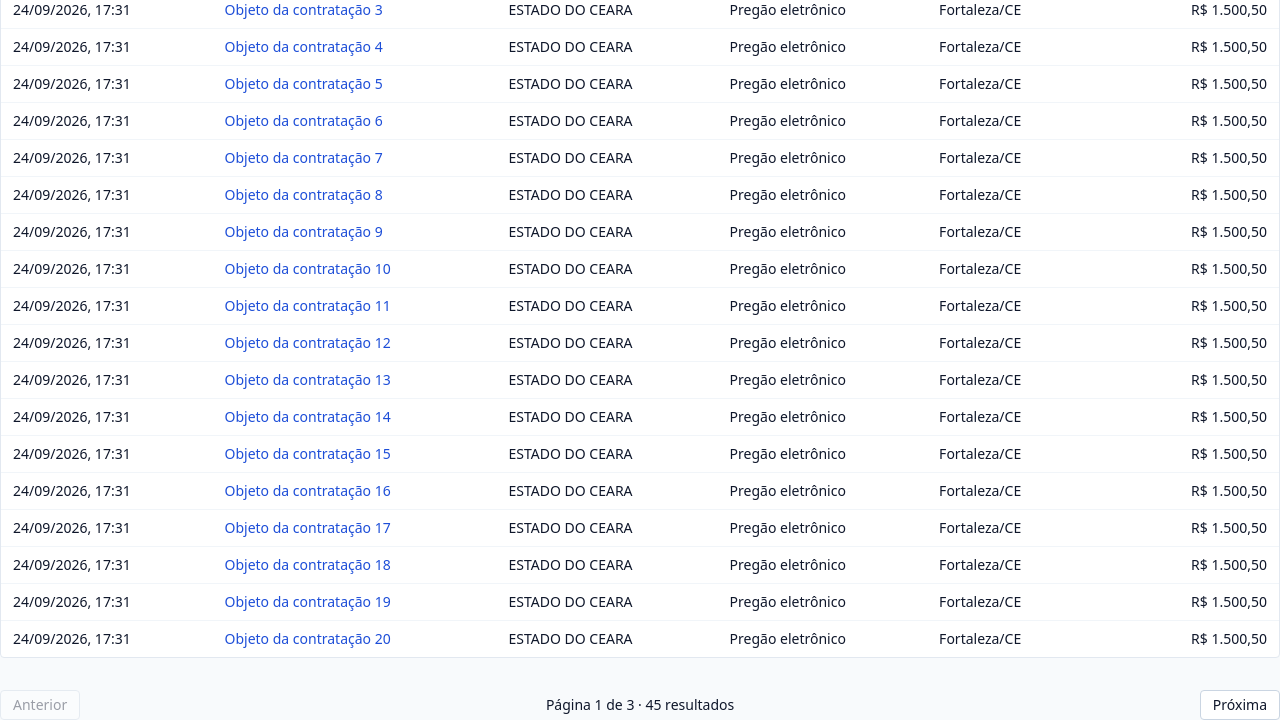
ContratacoesView — paginação › próxima e anterior pedem a página certa; bordas desabilitadas
(page scrolled)
Expected: the text "Página 1 de 3 · 45 resultados" is shown, [546,695,734,715]
Expected: the button "Anterior" is disabled, [0,690,80,719]
Click the button "Próxima".
click(1240, 705)  # box [1200,690,1279,719]
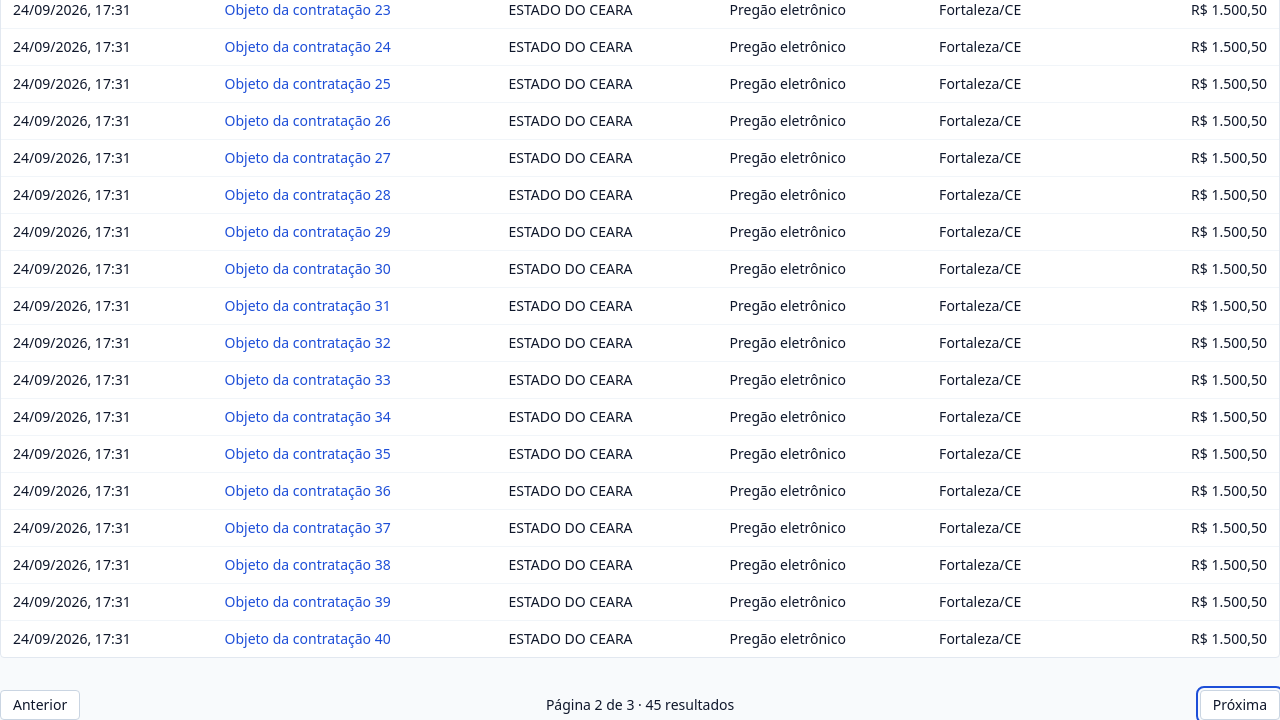
Expected: the text "Página 2 de 3 · 45 resultados" is shown, [546,695,734,715]
Click the button "Próxima".
click(1240, 705)  # box [1200,690,1279,719]
(page scrolled)
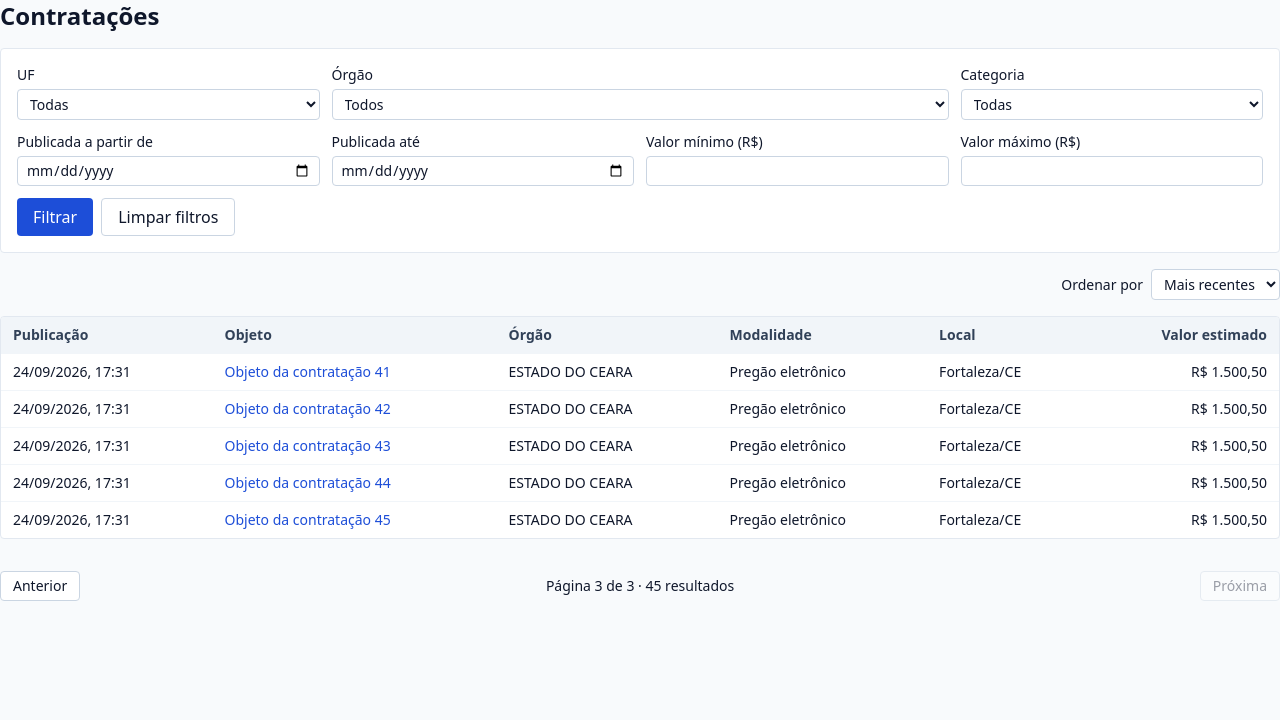
Expected: the number of rows is 6, [1,317,1279,353]; [1,354,1279,390]; [1,390,1279,428]; [1,428,1279,464]; [1,464,1279,502]; [1,502,1279,538]
Expected: the text "Página 3 de 3 · 45 resultados" is shown, [546,576,734,596]
Expected: the button "Próxima" is disabled, [1200,571,1279,601]
Click the button "Anterior".
click(40, 586)  # box [0,571,80,601]
(page scrolled)
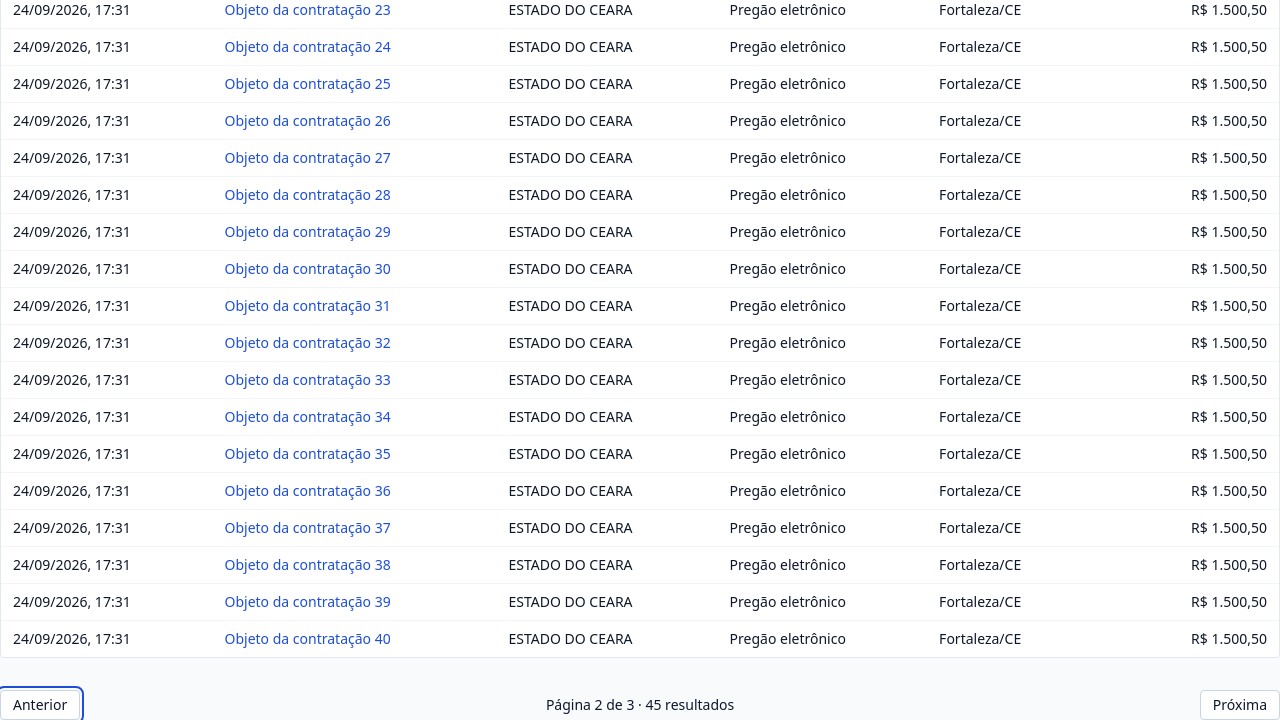
Expected: the text "Página 2 de 3 · 45 resultados" is shown, [546,695,734,715]
